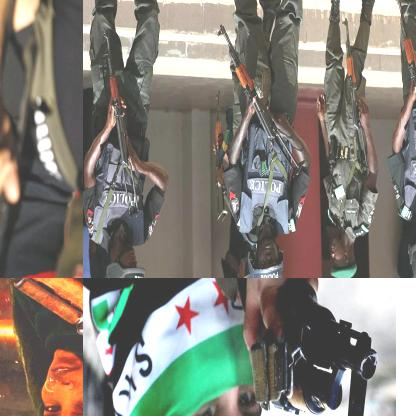rifle: (247, 279, 379, 415), (214, 21, 298, 170), (0, 278, 82, 415), (101, 25, 138, 212), (338, 11, 370, 168), (390, 0, 415, 140)
